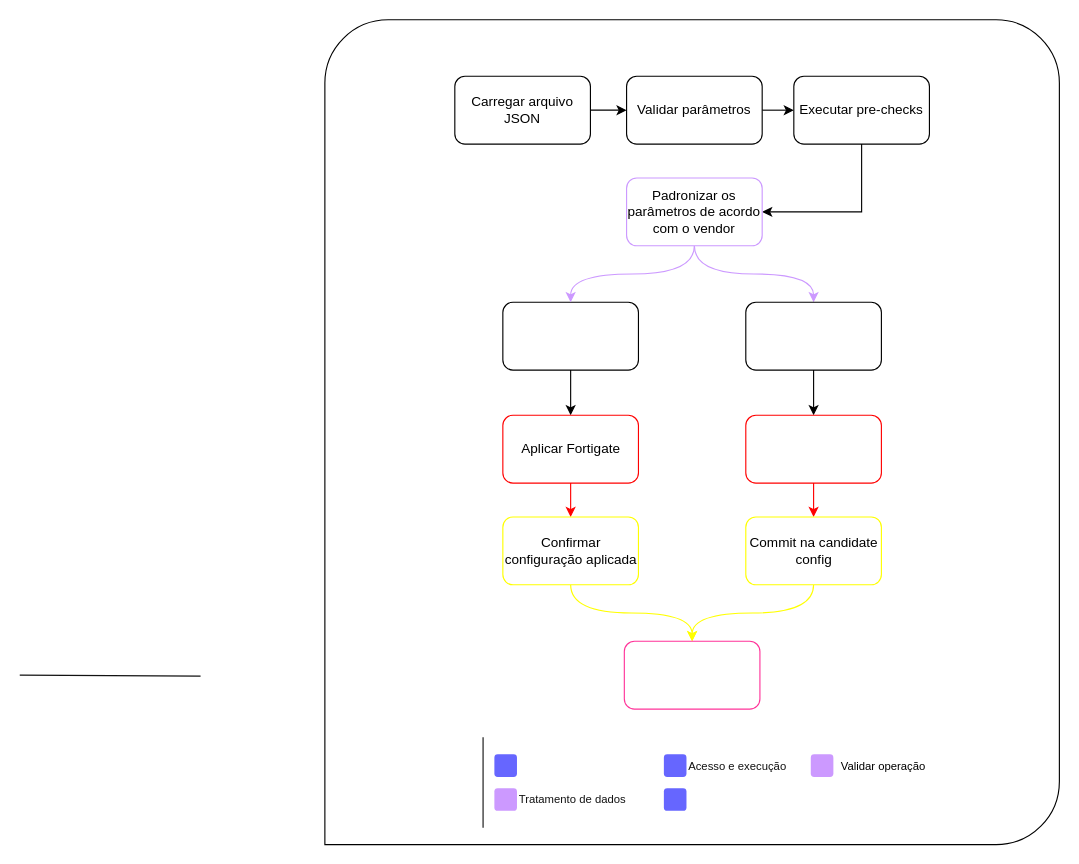
This 1079x864 diagram has some shape labels left out. The shapes that lost their labels are listed below. From the top down, each one's centre as x and y in pixels, then its label:
At (570,335): "Gerar script FortiOS".
At (813,335): "Gerar script PanOS".
At (813,448): "Aplicar Palo Alto".
At (691,674): "Validar status VPN".
